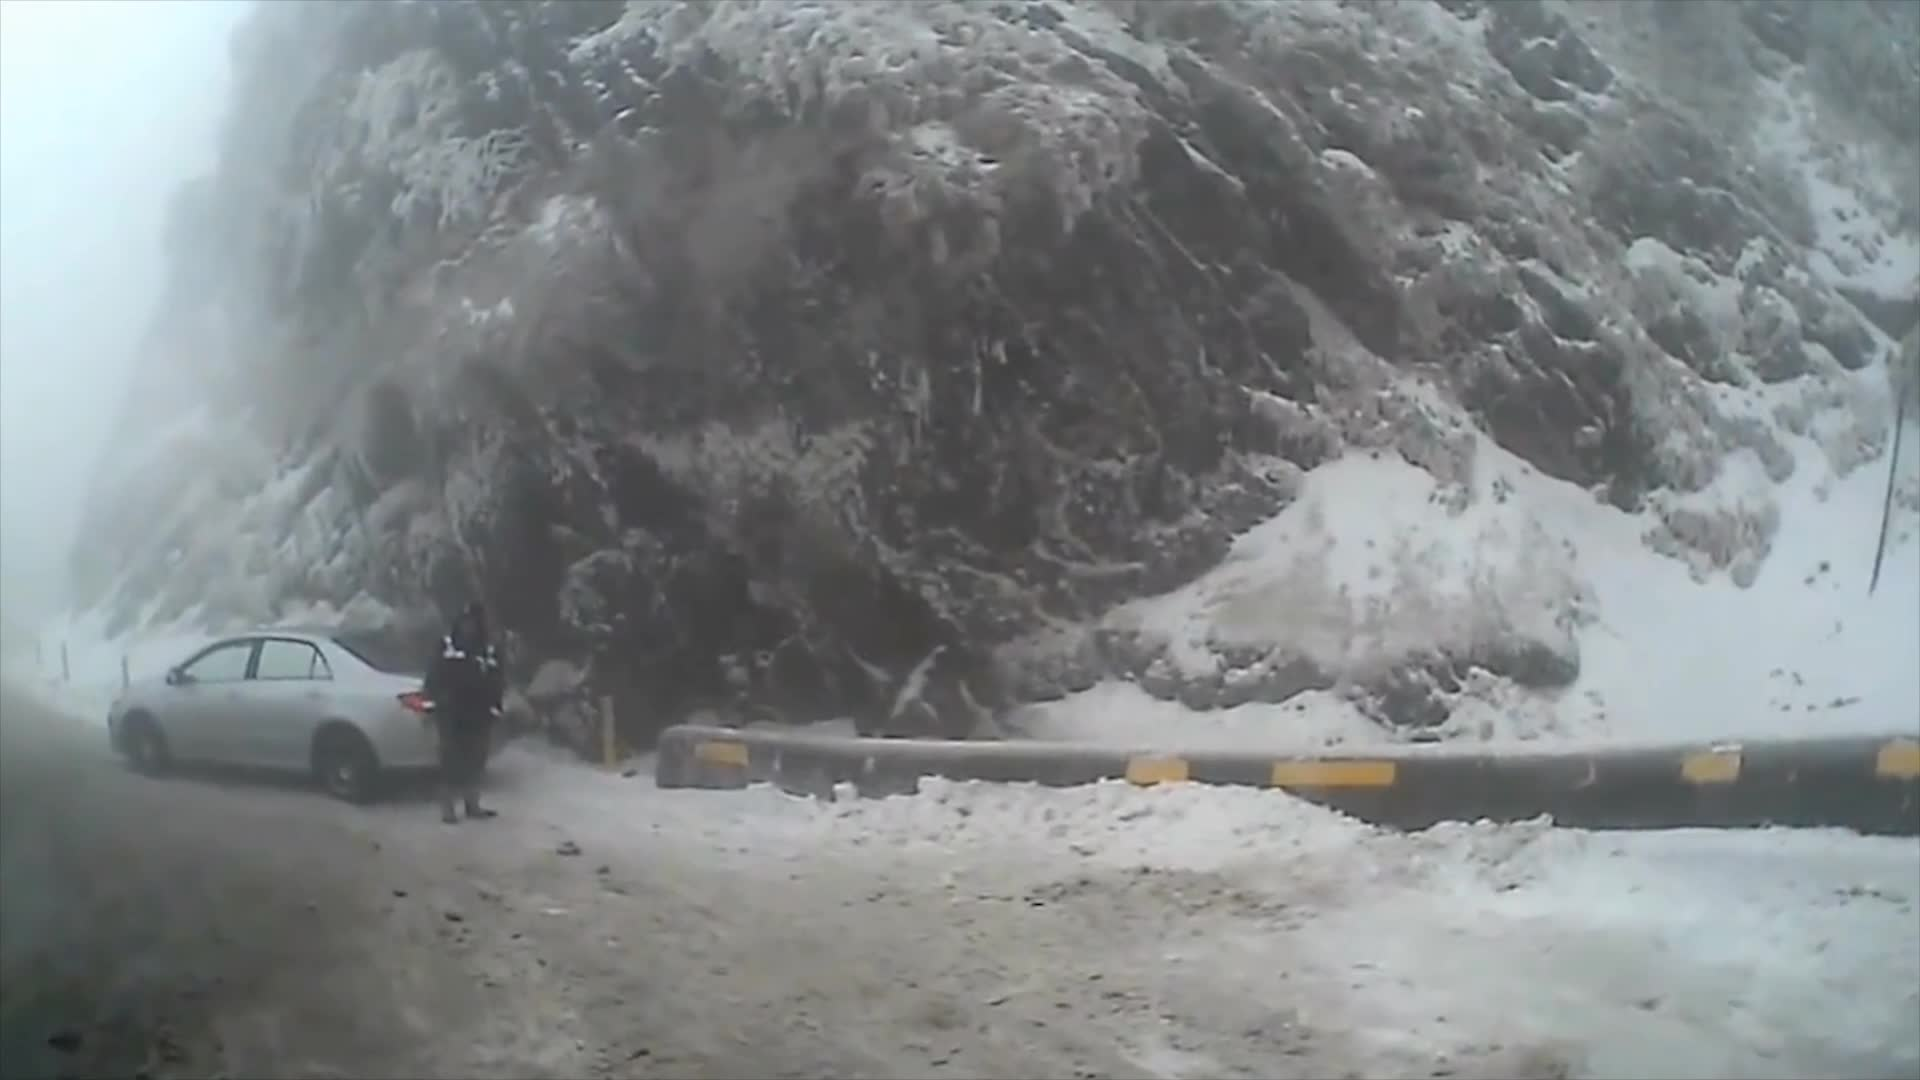pedestrian: (425, 596, 510, 823)
vehicle: (108, 621, 509, 804)
